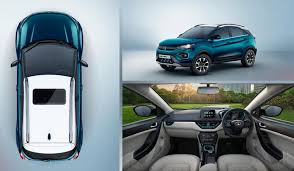Tata Nexon: (12, 10, 88, 161), (155, 21, 258, 75)
